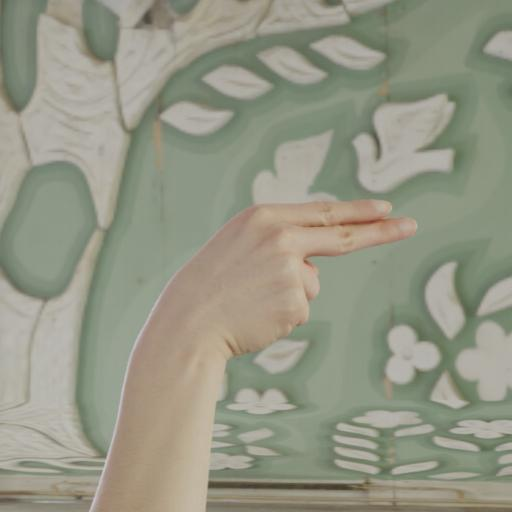H: (128, 192, 423, 365)
